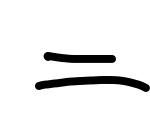eqv: (33, 48, 150, 94)
